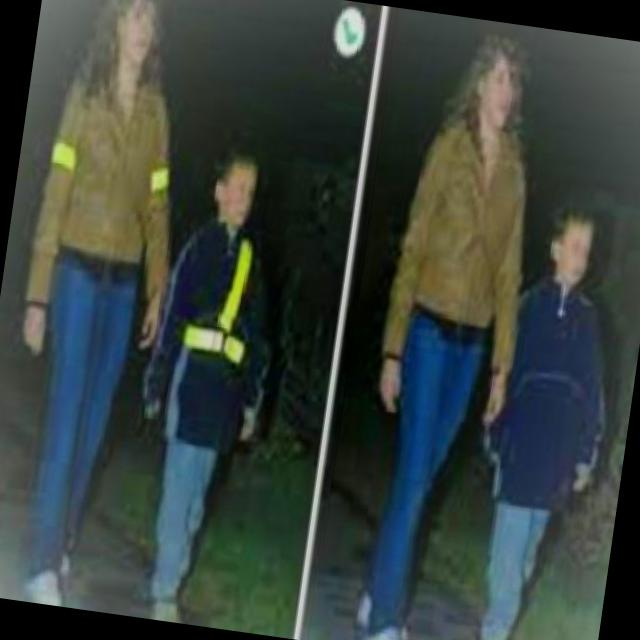Person: (338, 19, 557, 640), (0, 0, 202, 612), (105, 136, 302, 630), (456, 191, 635, 640)
